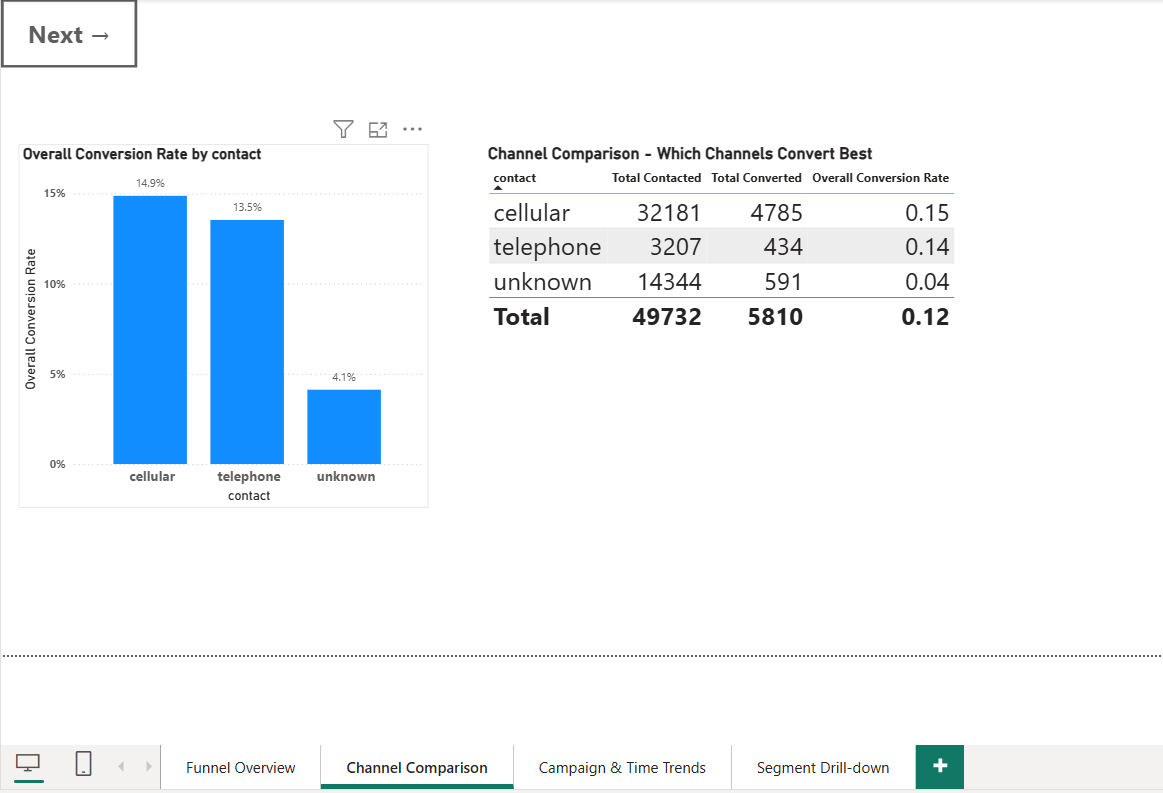

This screenshot's page, from the dashboard's own definition file:
{"tool":"powerbi","page":{"name":"Channel Comparison","canvas":[1280,720],"ordinal":1},"visuals":[{"type":"clusteredColumnChart","fields":{"Category":["Bank Marketing Campaign Dataset - bank.contact"],"Y":["Bank Marketing Campaign Dataset - bank.Overall Conversion Rate"]},"box":[19.2,159.2,450.1,399.3],"z":0},{"type":"tableEx","title":"Channel Comparison - Which Channels Convert Best","fields":{"Values":["Bank Marketing Campaign Dataset - bank.contact","Bank Marketing Campaign Dataset - bank.Total Contacted","Bank Marketing Campaign Dataset - bank.Total Converted","Bank Marketing Campaign Dataset - bank.Overall Conversion Rate"]},"box":[529.7,159.2,524.2,271.7],"z":1000},{"type":"actionButton","box":[0,0,149.6,75.5],"z":2000}]}

Visuals, with their boxes on the page's 1280x720 design canvas (x1, y1, x2, y2). These are canvas units, not pixel positions in the 1163x793 screenshot, which may show the page scaled, cropped or inside an application window:
clusteredColumnChart - Bank Marketing Campaign Dataset - bank.contact x Bank Marketing Campaign Dataset - bank.Overall Conversion Rate: crop(19, 159, 469, 558)
"Channel Comparison - Which Channels Convert Best" tableEx: crop(530, 159, 1054, 431)
actionButton: crop(0, 0, 150, 76)
